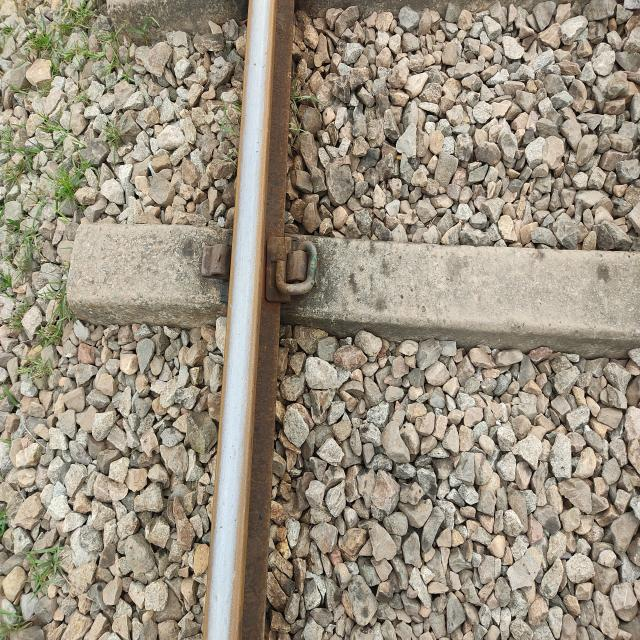Faults: (190, 239, 233, 284)
